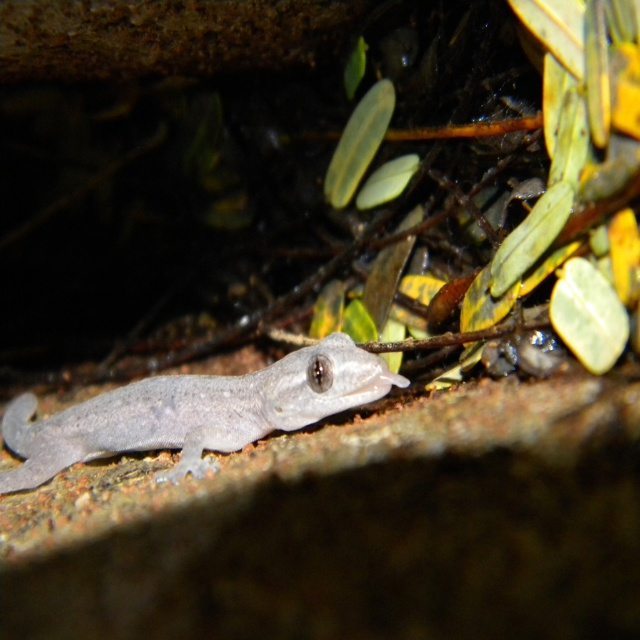Lizard: (15, 340, 412, 514)
